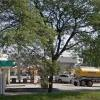Tree: (21, 0, 100, 75)
